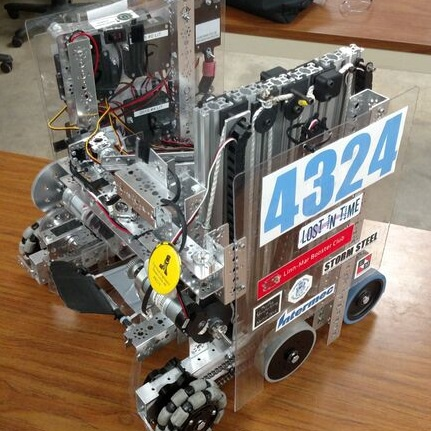robot: (12, 0, 424, 429)
